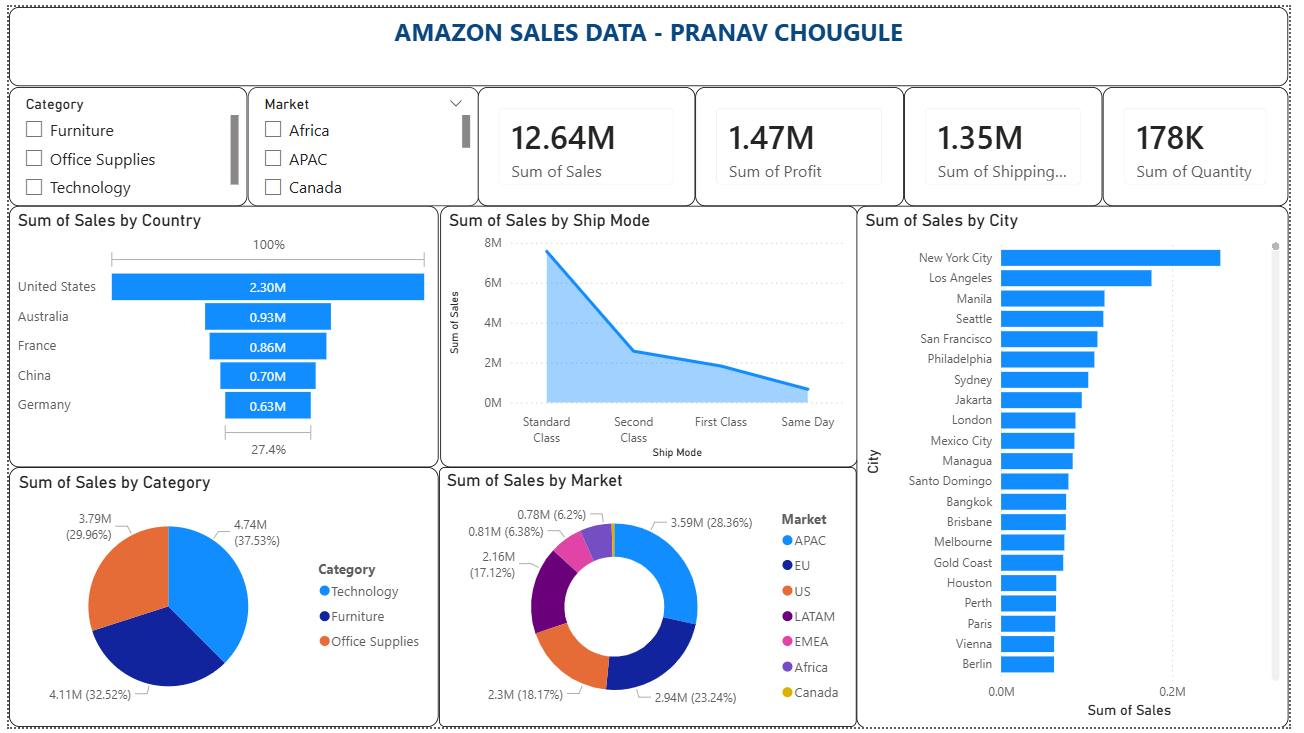

What the dashboard file says about the page in this screenshot:
{"tool":"powerbi","page":{"name":"Page 1","canvas":[1280,720],"ordinal":0},"visuals":[{"type":"pieChart","fields":{"Category":["Orders.Category"],"Y":["Sum(Orders.Sales)"]},"box":[0,460.3,429.4,260.3],"z":0},{"type":"donutChart","fields":{"Y":["Sum(Orders.Sales)"],"Category":["Orders.Market"]},"box":[429.4,460.3,417.6,260.3],"z":1000},{"type":"areaChart","fields":{"Category":["Orders.Ship Mode"],"Y":["Sum(Orders.Sales)"]},"box":[430.9,198.5,417.6,261.8],"z":2000},{"type":"clusteredBarChart","fields":{"Category":["Orders.City"],"Y":["Sum(Orders.Sales)"]},"box":[847.1,198.5,432.4,522.1],"z":3000},{"type":"funnel","fields":{"Category":["Orders.Country"],"Y":["Sum(Orders.Sales)"]},"box":[0,198.5,429.4,261.8],"z":4000},{"type":"textbox","box":[0,0,1279.4,79.4],"z":5000},{"type":"slicer","fields":{"Values":["Orders.Category"]},"box":[0,79.4,238.2,119.1],"z":6000},{"type":"slicer","fields":{"Values":["Orders.Market"]},"box":[238.2,79.4,230.9,119.1],"z":7000},{"type":"cardVisual","fields":{"Data":["Sum(Orders.Sales)"]},"box":[469.1,79.4,217.6,119.1],"z":8000},{"type":"cardVisual","fields":{"Data":["Sum(Orders.Profit)"]},"box":[686.8,79.4,208.8,119.1],"z":9000},{"type":"cardVisual","fields":{"Data":["Sum(Orders.Shipping Cost)"]},"box":[895.6,79.4,198.5,119.1],"z":10000},{"type":"cardVisual","fields":{"Data":["Sum(Orders.Quantity)"]},"box":[1094.1,79.4,185.3,119.1],"z":11000}]}

Visuals, with their boxes in screenshot pixels (x1, y1, x2, y2), scaled from the page's 1280x720 canvas onto the 1304x733 screenshot:
pieChart - Orders.Category x Sum(Orders.Sales): 0 469 437 732
donutChart - Sum(Orders.Sales) x Orders.Market: 437 469 863 732
areaChart - Orders.Ship Mode x Sum(Orders.Sales): 439 202 864 469
clusteredBarChart - Orders.City x Sum(Orders.Sales): 863 202 1303 732
funnel - Orders.Country x Sum(Orders.Sales): 0 202 437 469
textbox: 0 0 1303 81
slicer - Orders.Category: 0 81 243 202
slicer - Orders.Market: 243 81 478 202
cardVisual - Sum(Orders.Sales): 478 81 700 202
cardVisual - Sum(Orders.Profit): 700 81 912 202
cardVisual - Sum(Orders.Shipping Cost): 912 81 1115 202
cardVisual - Sum(Orders.Quantity): 1115 81 1303 202
